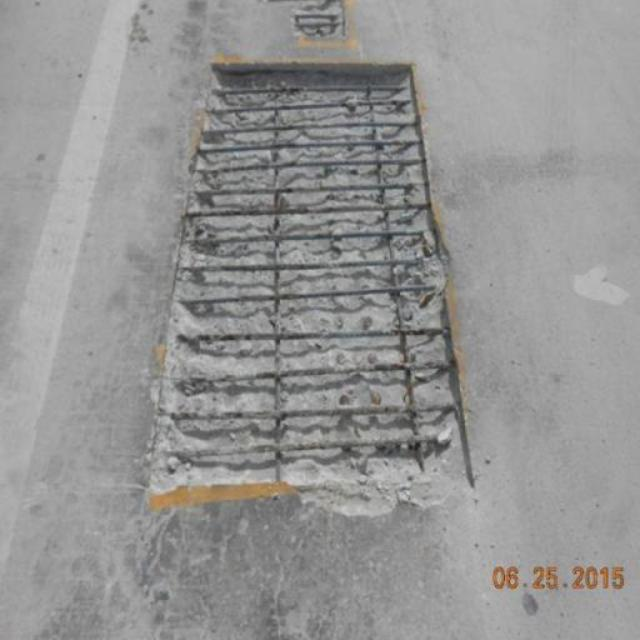D0w0: (146, 2, 472, 513)
